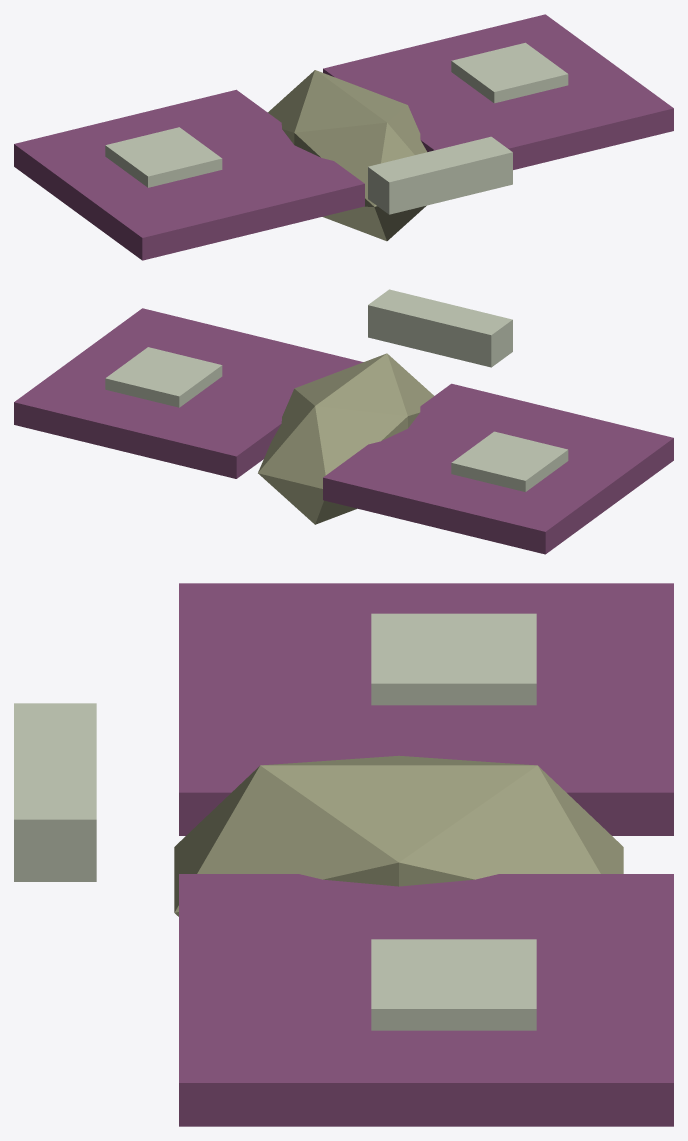
The model's file is moth.glb.
3 renders of one model, top to bottom at view 1: azimuth 30°, elevation 25°; view 2: azimuth 150°, elevation 25°; view 3: azimuth 270°, elevation 25°, orthographic. The views are drawn at different scales.
Visible parts, largest first — view 1: WingL, WingR, Body, Feel, SpotL, SpotR; view 2: WingL, WingR, Body, Feel, SpotR, SpotL; view 3: WingR, WingL, Body, SpotL, SpotR, Feel.
Part boxes in pixels (<box>): WingL: <box>14,89,364,260</box>; WingR: <box>323,14,673,169</box>; Body: <box>268,70,426,241</box>; Feel: <box>368,136,512,214</box>; SpotL: <box>105,127,222,187</box>; SpotR: <box>451,42,568,103</box>; WingL: <box>323,383,673,554</box>; WingR: <box>14,308,363,478</box>; Body: <box>258,353,433,524</box>; Feel: <box>368,289,512,367</box>; SpotR: <box>105,347,222,407</box>; SpotL: <box>451,431,568,491</box>; WingR: <box>179,874,673,1126</box>; WingL: <box>179,583,673,835</box>; Body: <box>174,755,623,916</box>; SpotL: <box>371,613,536,705</box>; SpotR: <box>371,939,536,1030</box>; Feel: <box>14,703,96,881</box>.
Size of the model in its own units: 0.86 by 0.1869 by 0.48.
